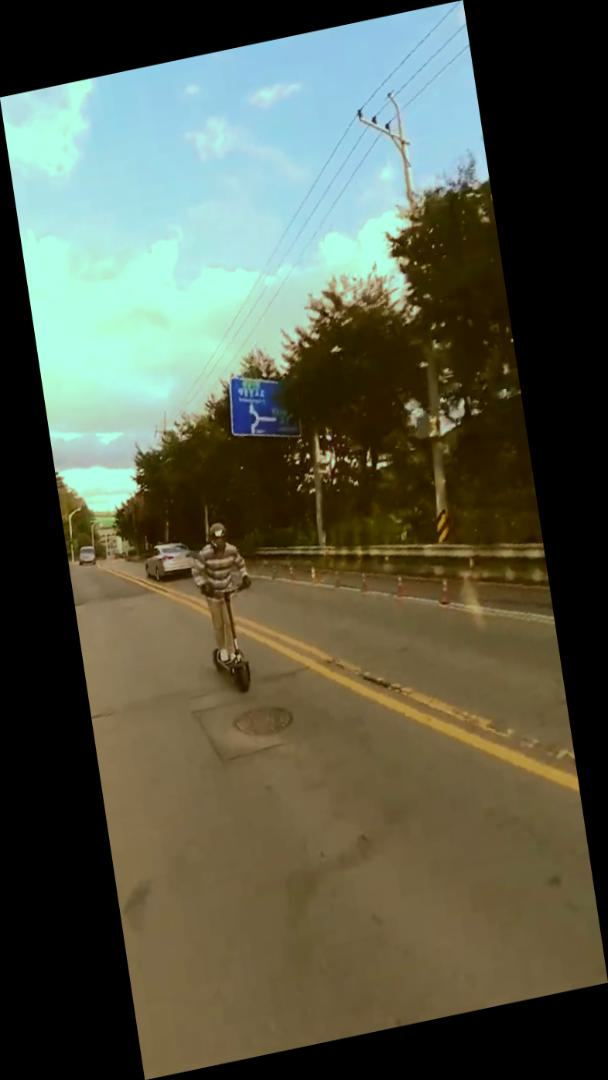helmet: (187, 513, 270, 703)
